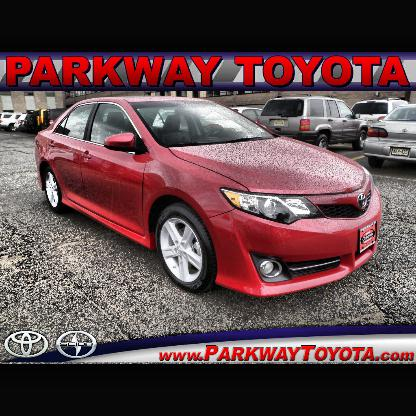Toyota Camry Sedan 2012: (35, 97, 381, 300)
